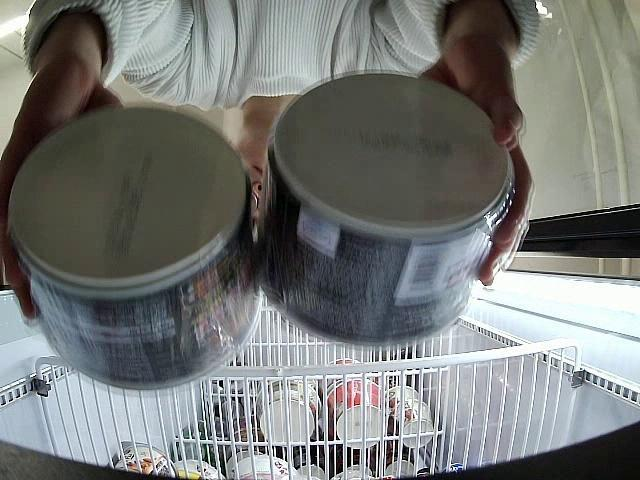07_buldak_L: (7, 103, 256, 390), (260, 73, 514, 347)
